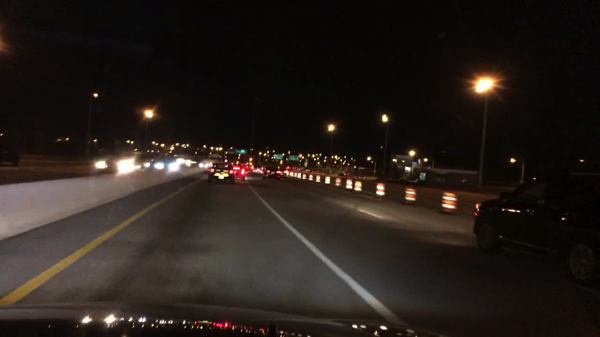bus: (224, 152, 243, 167), (207, 154, 223, 165)
car: (472, 174, 599, 287), (0, 132, 23, 167), (95, 156, 134, 172), (209, 163, 235, 186), (152, 154, 176, 169), (133, 152, 153, 169), (261, 167, 283, 181), (231, 162, 247, 181), (400, 176, 418, 185), (176, 156, 189, 166), (197, 159, 213, 167), (245, 162, 254, 176), (252, 167, 264, 177), (337, 171, 349, 177), (461, 178, 469, 185), (191, 157, 198, 164), (285, 166, 290, 171), (296, 168, 301, 172), (291, 166, 296, 170), (305, 169, 310, 172)
traffic sign: (235, 148, 247, 154), (273, 154, 284, 160), (288, 156, 300, 161), (304, 161, 307, 167)
